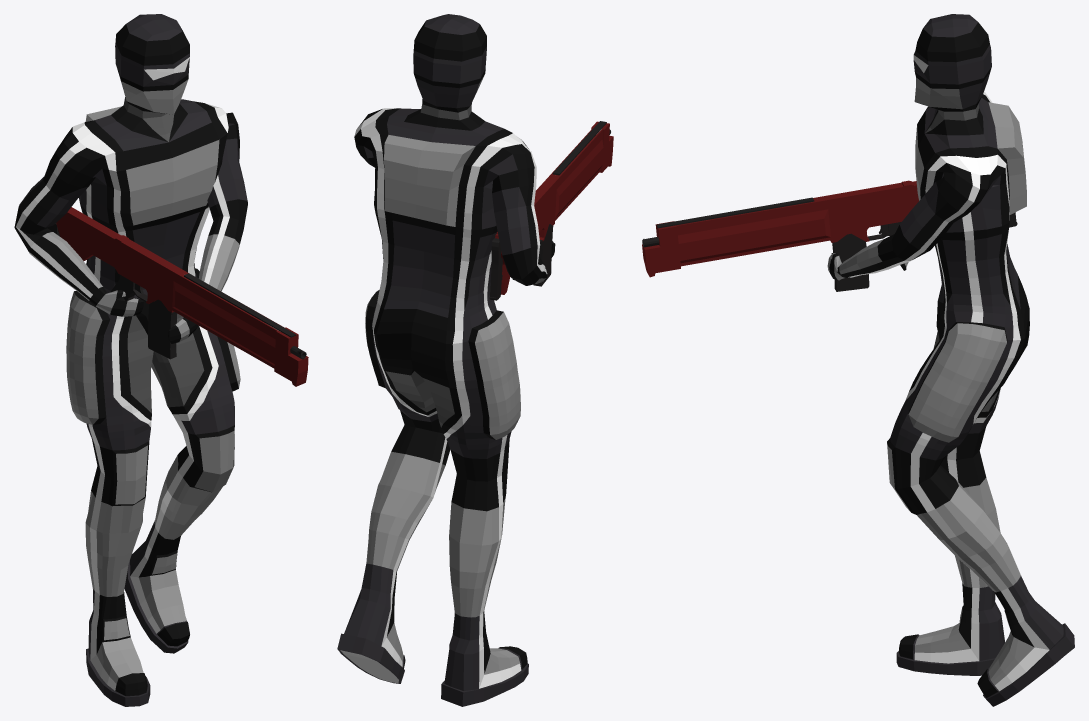
Rendered from MCR5.obj.
3 views of the same model, side by side, from view 1: azimuth 30°, elevation 25°; view 2: azimuth 150°, elevation 25°; view 3: azimuth 270°, elevation 25° (orthographic).
Visible parts, largest first — view 1: metarig_object_metarig_mesh, Cube.001; view 2: metarig_object_metarig_mesh, Cube.001; view 3: metarig_object_metarig_mesh, Cube.001.
Boxes of the visible parts, box(x1,y1,x2,y2) form: metarig_object_metarig_mesh: box(14, 14, 247, 706); Cube.001: box(48, 207, 308, 386); metarig_object_metarig_mesh: box(337, 14, 555, 706); Cube.001: box(489, 121, 613, 300); metarig_object_metarig_mesh: box(827, 14, 1074, 706); Cube.001: box(642, 180, 1017, 291).
Bounding box in the file's own units: 0.5375 × 1.7 × 1.
2 materials, 2 textured.
